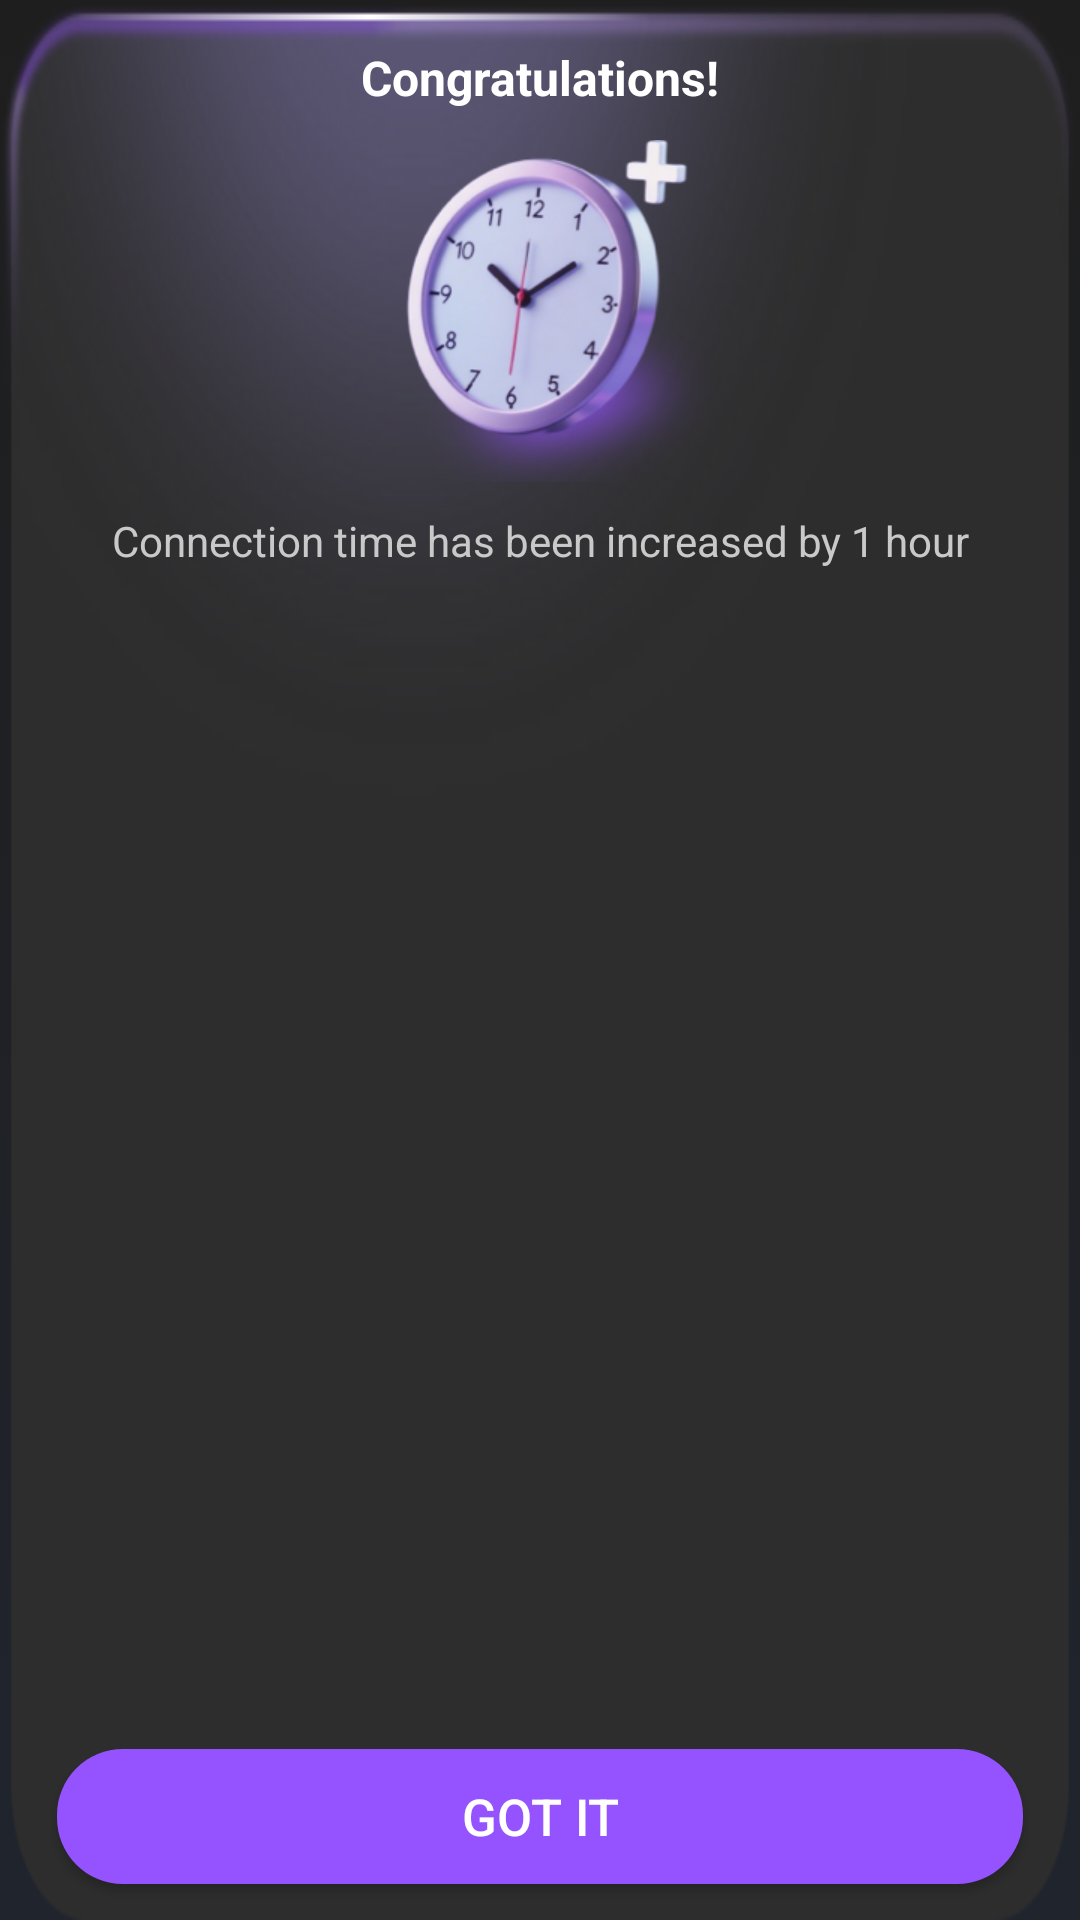

Screen size 1080 x 1920. Icon name, then its center in pixels as point (x, y):
add time success: point (540, 311)
